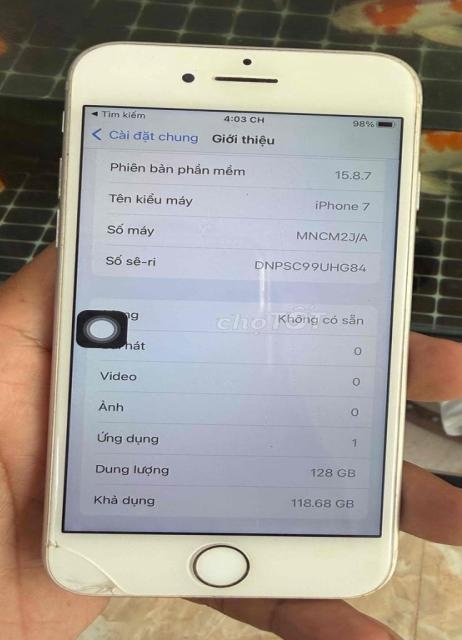physical_damage: (45, 531, 167, 601)
